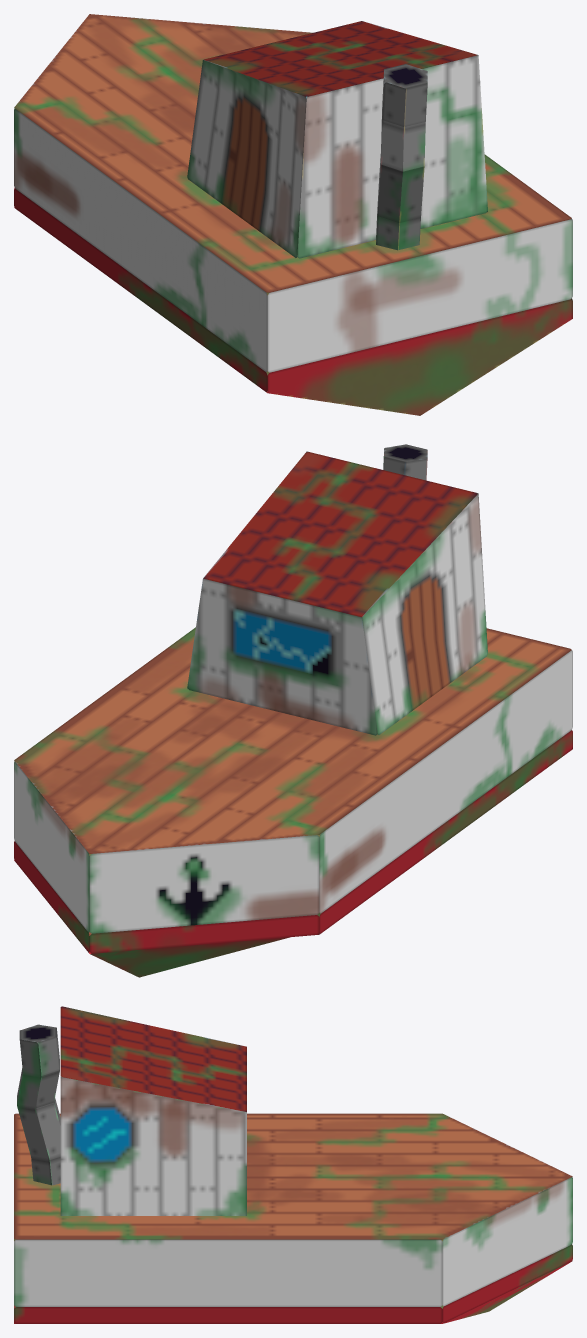
File: Ship.fbx
3 renders of one model, top to bottom at view 1: azimuth 30°, elevation 25°; view 2: azimuth 150°, elevation 25°; view 3: azimuth 270°, elevation 25°, orthographic. The views are drawn at different scales.
Parts seen in each view (by area): view 1: body, cabin, cylinder; view 2: body, cabin, cylinder; view 3: body, cabin, cylinder.
Boxes of the visible parts, x1,y1,x2,y2 form: body: (14, 14, 572, 415); cabin: (187, 21, 487, 258); cylinder: (376, 64, 427, 250); body: (14, 627, 572, 977); cabin: (187, 451, 487, 735); cylinder: (383, 444, 427, 480); body: (14, 1113, 572, 1323); cabin: (60, 1006, 246, 1215); cylinder: (17, 1024, 60, 1185).
Bounding box in the file's own units: 100 × 103 × 188.
1 material, 1 textured.
